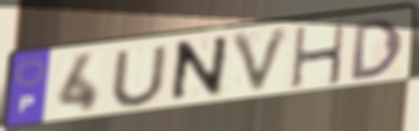4: (53, 49, 103, 118)
D: (349, 16, 405, 84)
H: (289, 19, 348, 91)
N: (166, 33, 232, 107)
U: (108, 43, 170, 109)
V: (229, 24, 295, 98)
